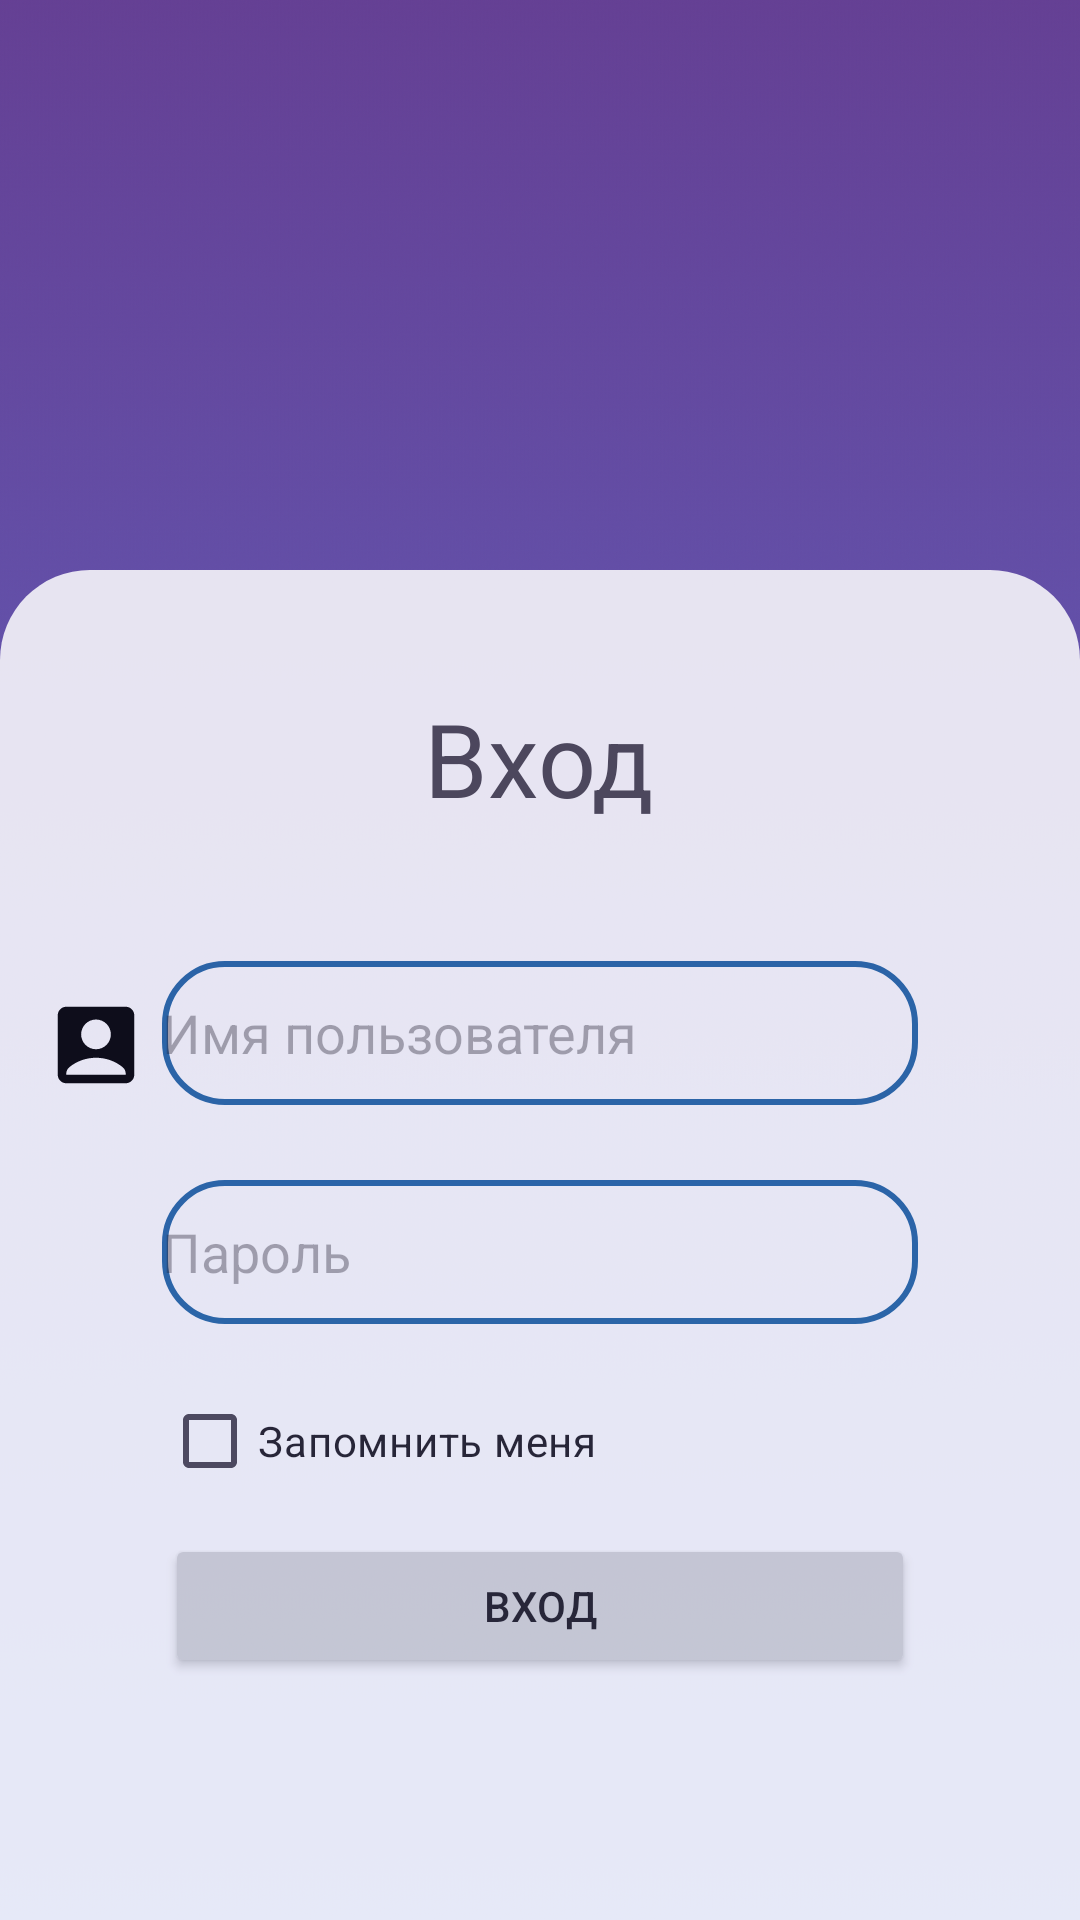

Where icons sit on this 1080×1920 app screen, as (x1=x1, y1=y1, x2=x2, y2=y2):
account box: (x1=57, y1=1006, x2=135, y2=1084)
